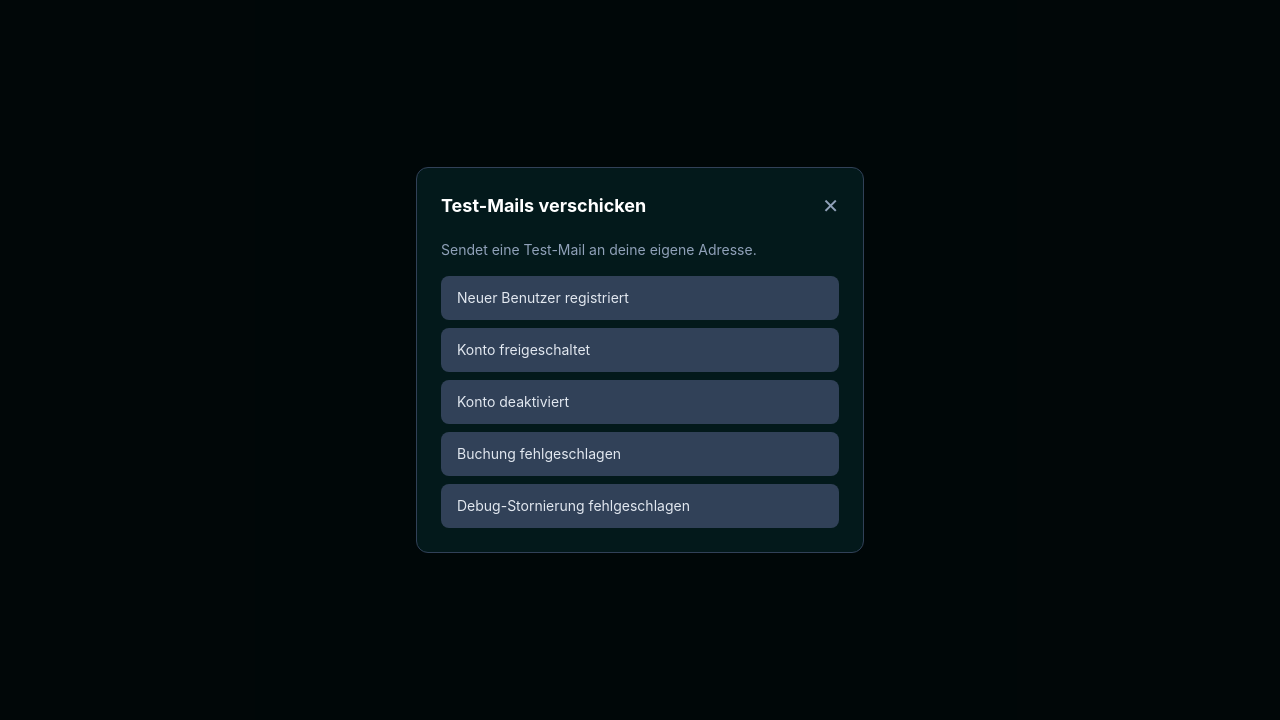
it: TestEmailModal › shows error message after a failed send
Click the button "Konto deaktiviert". click: (513,402)
box: [441,380,839,424]
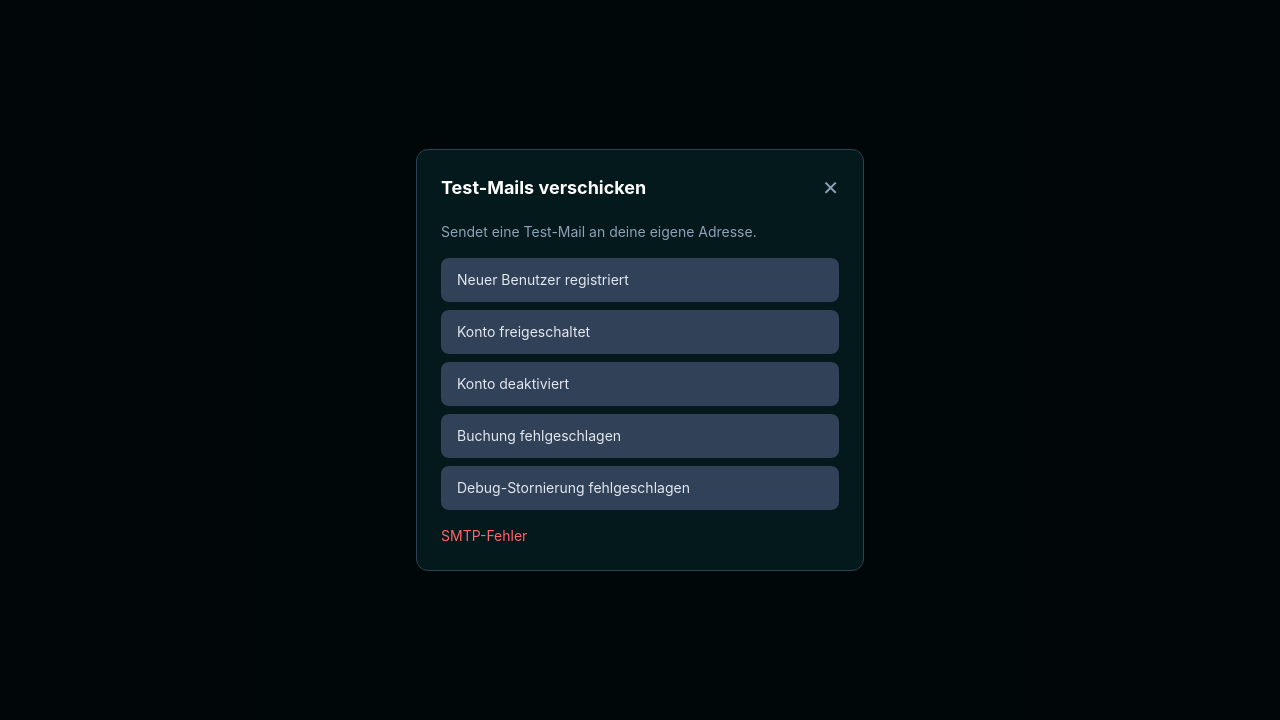
Check: the text "SMTP-Fehler" is shown, box [441,527,527,544]
